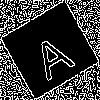A: (25, 24, 77, 82)
